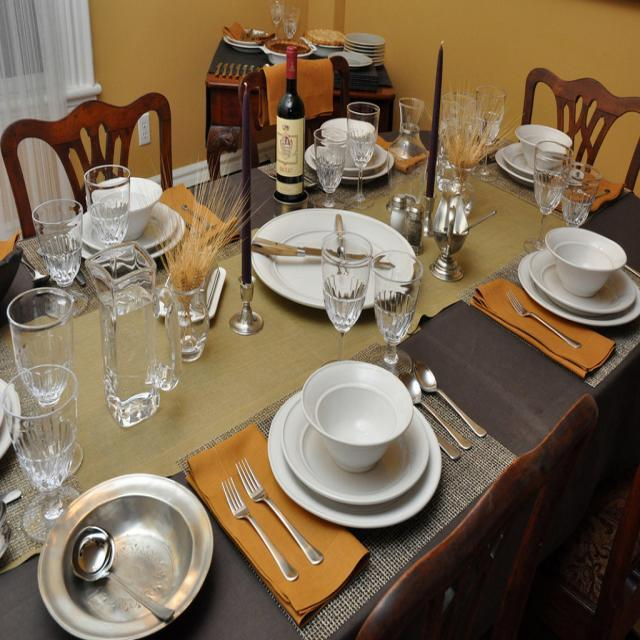ceramic plate: (250, 354, 452, 531), (40, 461, 216, 640), (245, 211, 416, 320), (514, 230, 640, 330)
